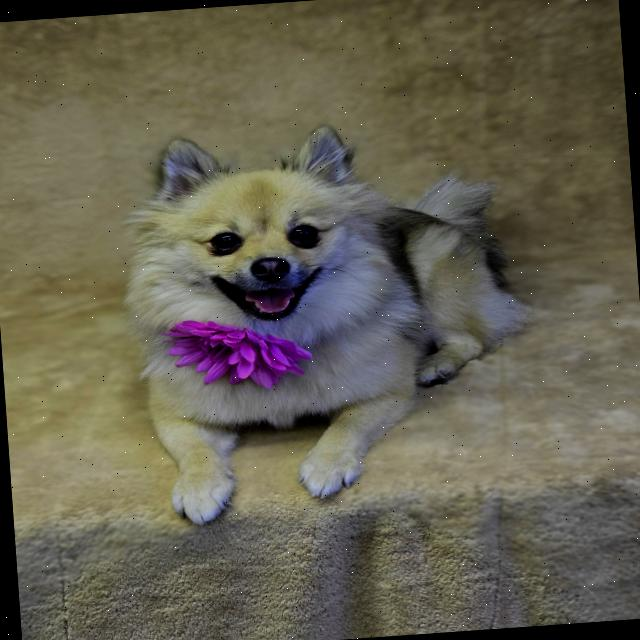pomeranian_dog: (115, 112, 402, 352)
